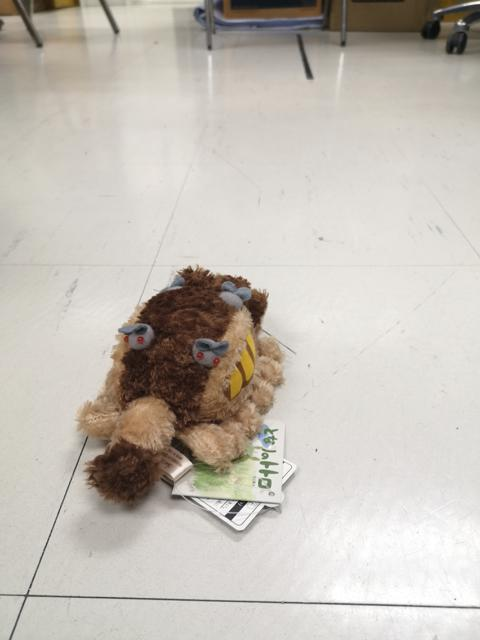nekobus: (74, 262, 293, 509)
